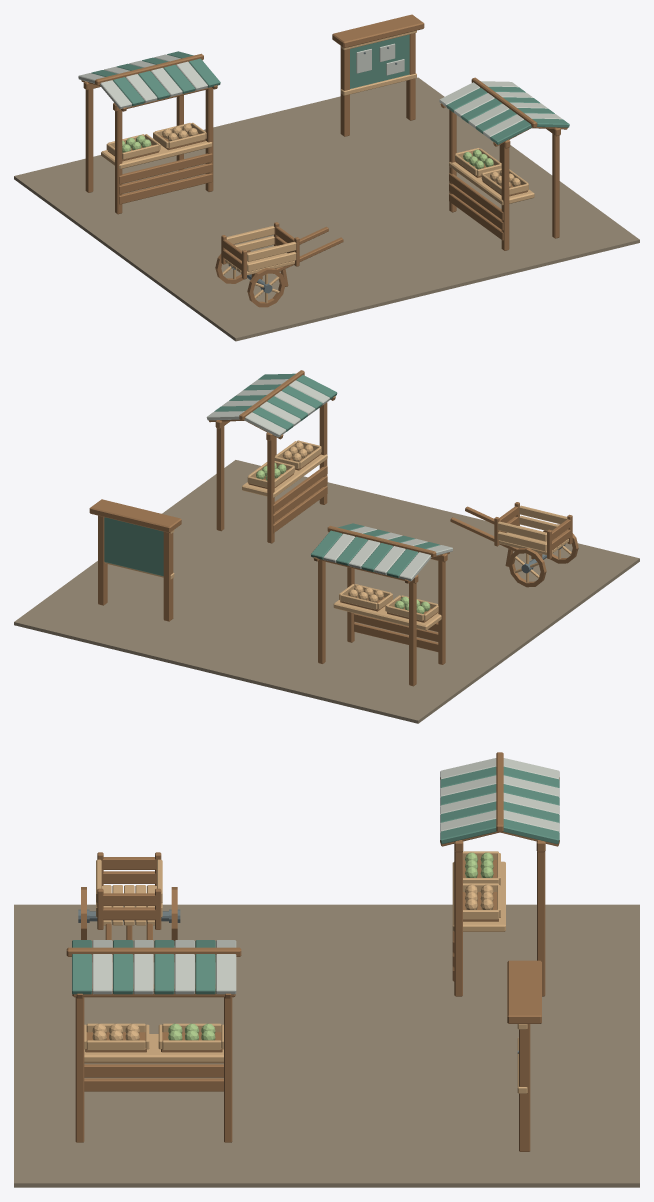
3 renders of one model, top to bottom at view 1: azimuth 30°, elevation 25°; view 2: azimuth 150°, elevation 25°; view 3: azimuth 270°, elevation 25°, orthographic. The views are drawn at different scales.
Visible parts, largest first — view 1: SCENE_ONLY__Continuous_Market_Ground, northwest_produce_stall__village-market-stall-01, southeast_produce_stall__village-market-stall-01, northeast_notice_point__village-noticeboard-01, southwest_delivery_cart__village-handcart-01; view 2: SCENE_ONLY__Continuous_Market_Ground, northwest_produce_stall__village-market-stall-01, southeast_produce_stall__village-market-stall-01, northeast_notice_point__village-noticeboard-01, southwest_delivery_cart__village-handcart-01; view 3: SCENE_ONLY__Continuous_Market_Ground, southeast_produce_stall__village-market-stall-01, northwest_produce_stall__village-market-stall-01, southwest_delivery_cart__village-handcart-01, northeast_notice_point__village-noticeboard-01.
Part boxes in pixels (x1,y1,x2,y2): SCENE_ONLY__Continuous_Market_Ground: (14, 77, 639, 341); northwest_produce_stall__village-market-stall-01: (78, 51, 220, 214); southeast_produce_stall__village-market-stall-01: (439, 77, 569, 250); northeast_notice_point__village-noticeboard-01: (332, 14, 424, 136); southwest_delivery_cart__village-handcart-01: (215, 222, 343, 307); SCENE_ONLY__Continuous_Market_Ground: (14, 460, 639, 723); northwest_produce_stall__village-market-stall-01: (311, 523, 452, 686); southeast_produce_stall__village-market-stall-01: (206, 370, 337, 543); northeast_notice_point__village-noticeboard-01: (89, 499, 181, 621); southwest_delivery_cart__village-handcart-01: (450, 502, 578, 587); SCENE_ONLY__Continuous_Market_Ground: (14, 904, 639, 1187); southeast_produce_stall__village-market-stall-01: (66, 940, 241, 1142); northwest_produce_stall__village-market-stall-01: (440, 752, 559, 996); southwest_delivery_cart__village-handcart-01: (78, 852, 180, 945); northeast_notice_point__village-noticeboard-01: (507, 960, 541, 1151).
Bounding box in the file's own units: 8 × 2.41 × 7.6.
